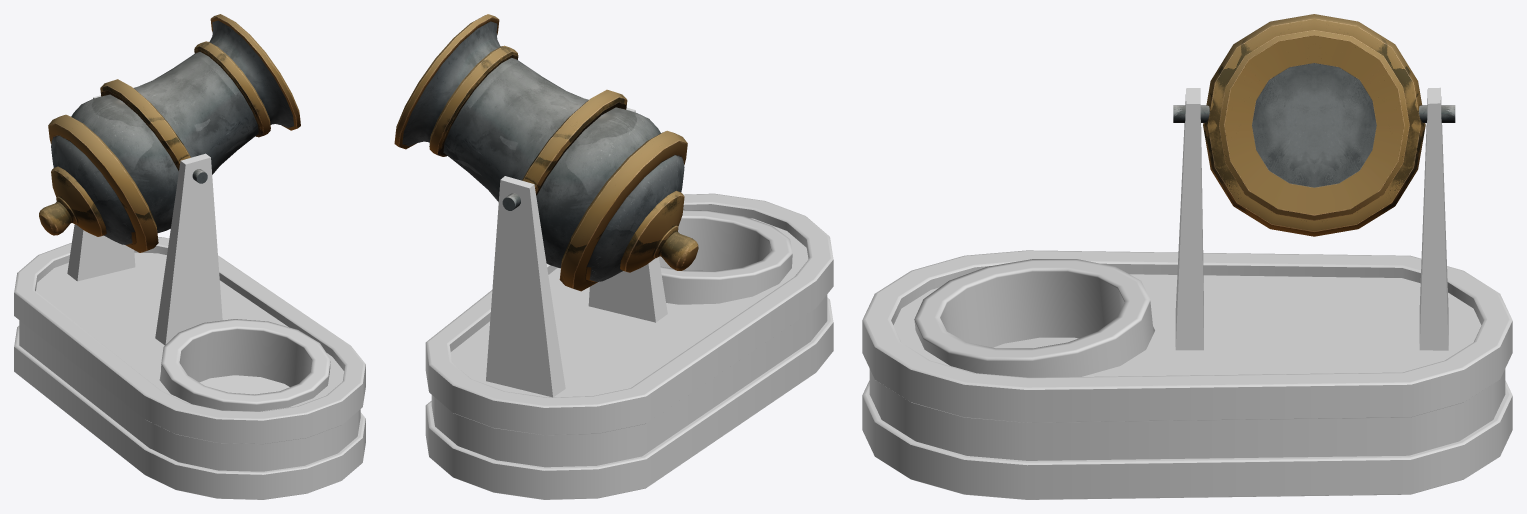
Rendered from BossCannon.fbx.
3 views of the same model, side by side, from view 1: azimuth 30°, elevation 25°; view 2: azimuth 150°, elevation 25°; view 3: azimuth 270°, elevation 25° (orthographic). The views are drawn at different scales.
Parts seen in each view (by area): view 1: Cylinder, OctoCannon, Cylinder.002, OctoCannon.001; view 2: Cylinder, OctoCannon, OctoCannon.001, Cylinder.002; view 3: Cylinder, OctoCannon, Cylinder.002, OctoCannon.001.
Part boxes in pixels (box(x1,y1,x2,y2)): Cylinder: box(14, 237, 365, 499); OctoCannon: box(39, 14, 300, 252); Cylinder.002: box(160, 319, 330, 411); OctoCannon.001: box(67, 95, 222, 345); Cylinder: box(425, 193, 833, 499); OctoCannon: box(394, 14, 698, 291); OctoCannon.001: box(486, 107, 667, 397); Cylinder.002: box(659, 209, 792, 304); Cylinder: box(862, 250, 1512, 499); OctoCannon: box(1173, 14, 1455, 236); Cylinder.002: box(914, 259, 1153, 377); OctoCannon.001: box(1175, 87, 1448, 350).
Bounding box in the file's own units: 185 × 243 × 311.
